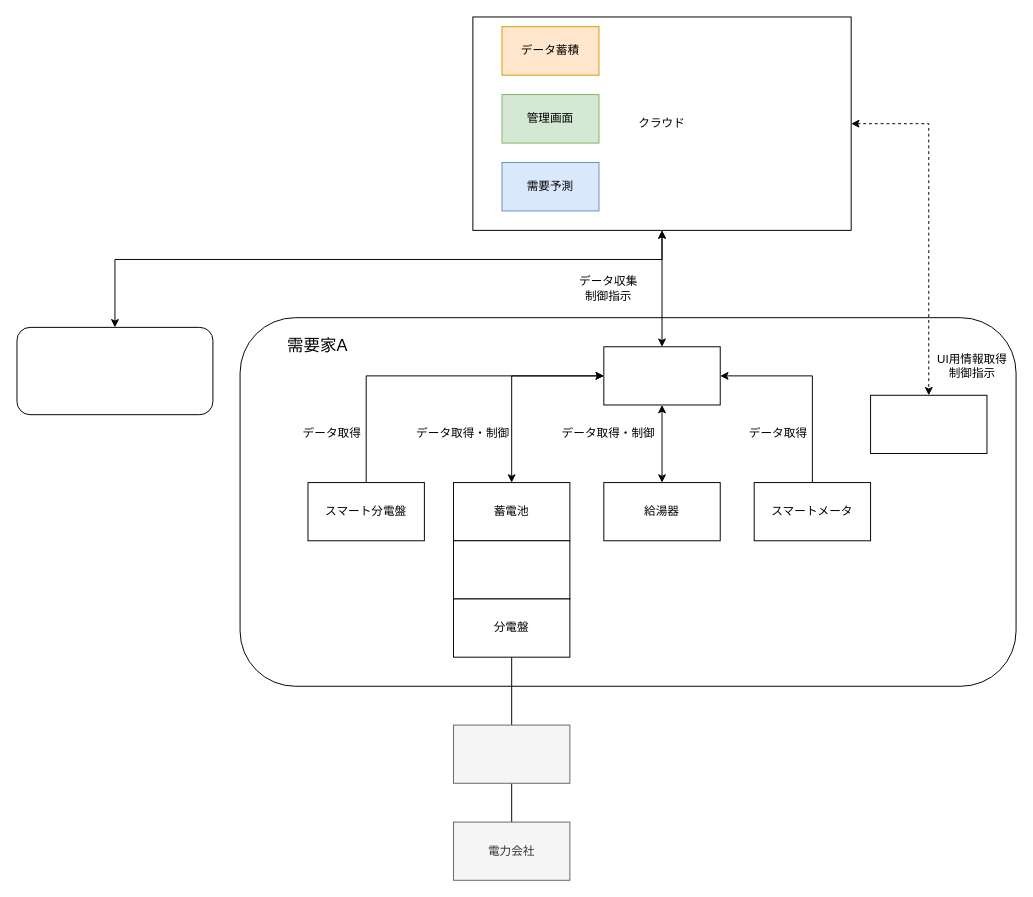
The diagram is 1033 pixels wide and 897 high, and some of its shapes have lost their labels. The shapes that lost their labels are listed below. From the top down, each one's centre as x and y in pixels, then its label:
the point at 114,370: 需要家B
the point at 661,375: ゲートウェイ機器
the point at 928,423: タブレット・スマホ (UI)
the point at 511,569: 太陽光
the point at 511,753: 電柱
